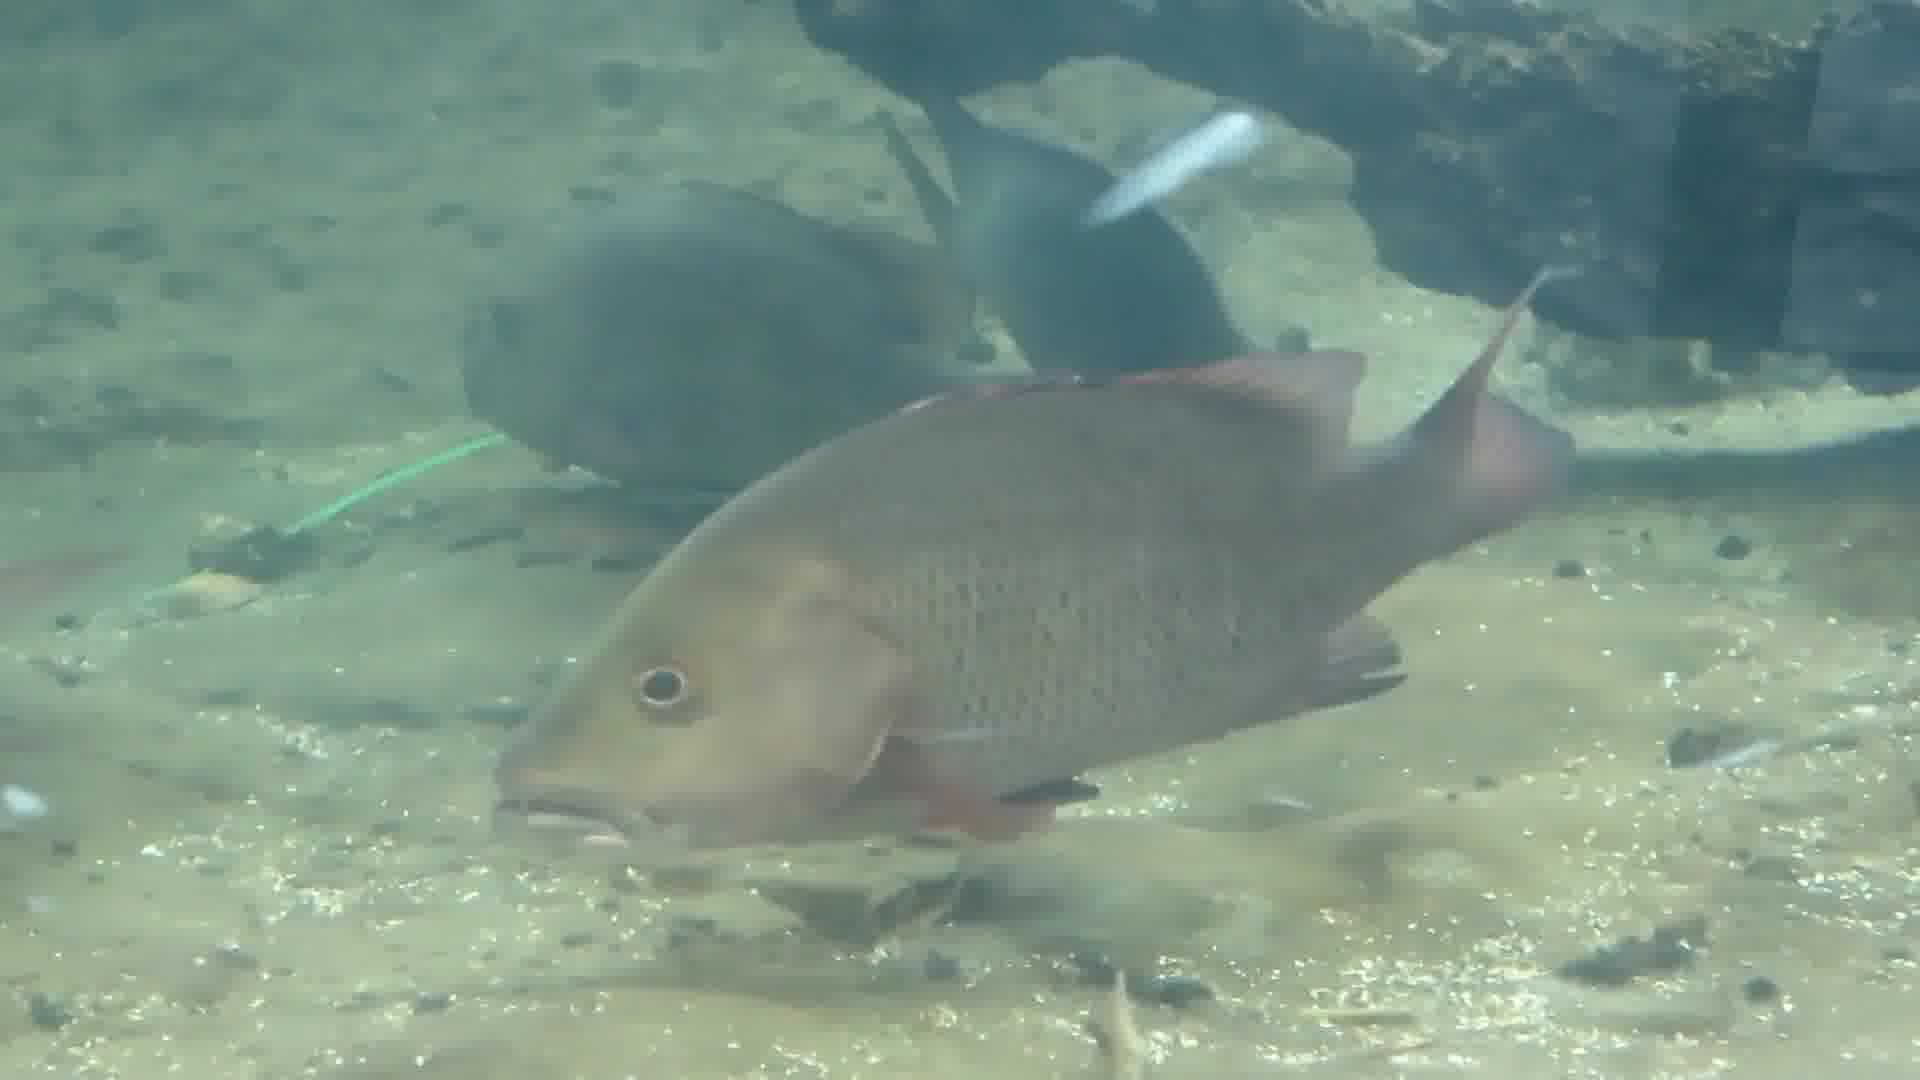Lutjanus argentimaculatus: (506, 376, 1400, 831)
